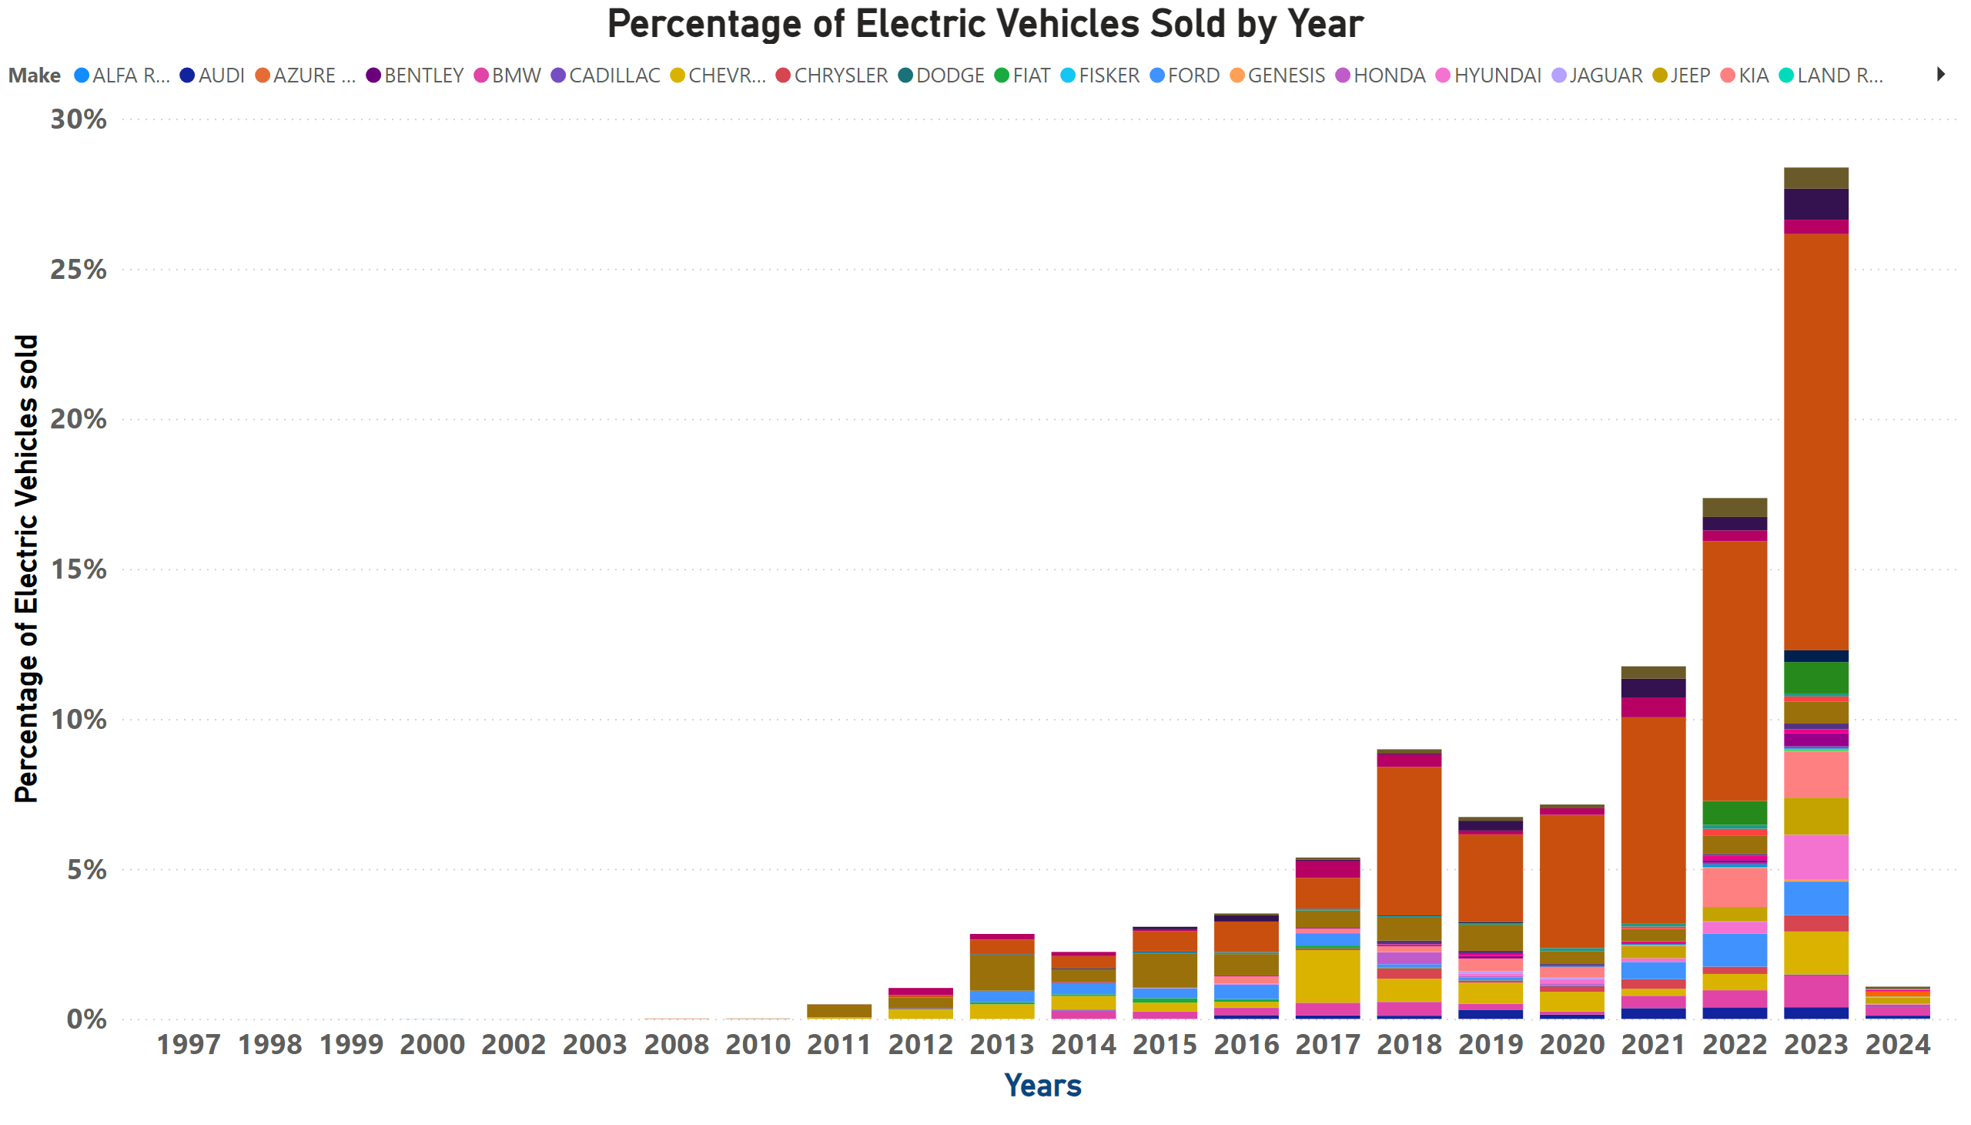

The dashboard page shown, as its layout file describes it:
{"tool":"powerbi","page":{"name":"Percentage of Elect Vehicles","canvas":[1280,720],"ordinal":0},"visuals":[{"type":"columnChart","title":"Percentage of Electric Vehicles Sold by Year","fields":{"Category":["Electric_Vehicle_Population_Dat.Model Year"],"Series":["Electric_Vehicle_Population_Dat.Make"],"Y":["CountNonNull(Electric_Vehicle_Population_Dat.Make)"]},"box":[0,0,1280,720],"z":0}]}

Visuals, with their boxes in screenshot pixels (x1, y1, x2, y2), scaled from the page's 1280x720 canvas onto the 1971x1125 screenshot:
"Percentage of Electric Vehicles Sold by Year" columnChart: {"left": 0, "top": 0, "right": 1970, "bottom": 1124}
